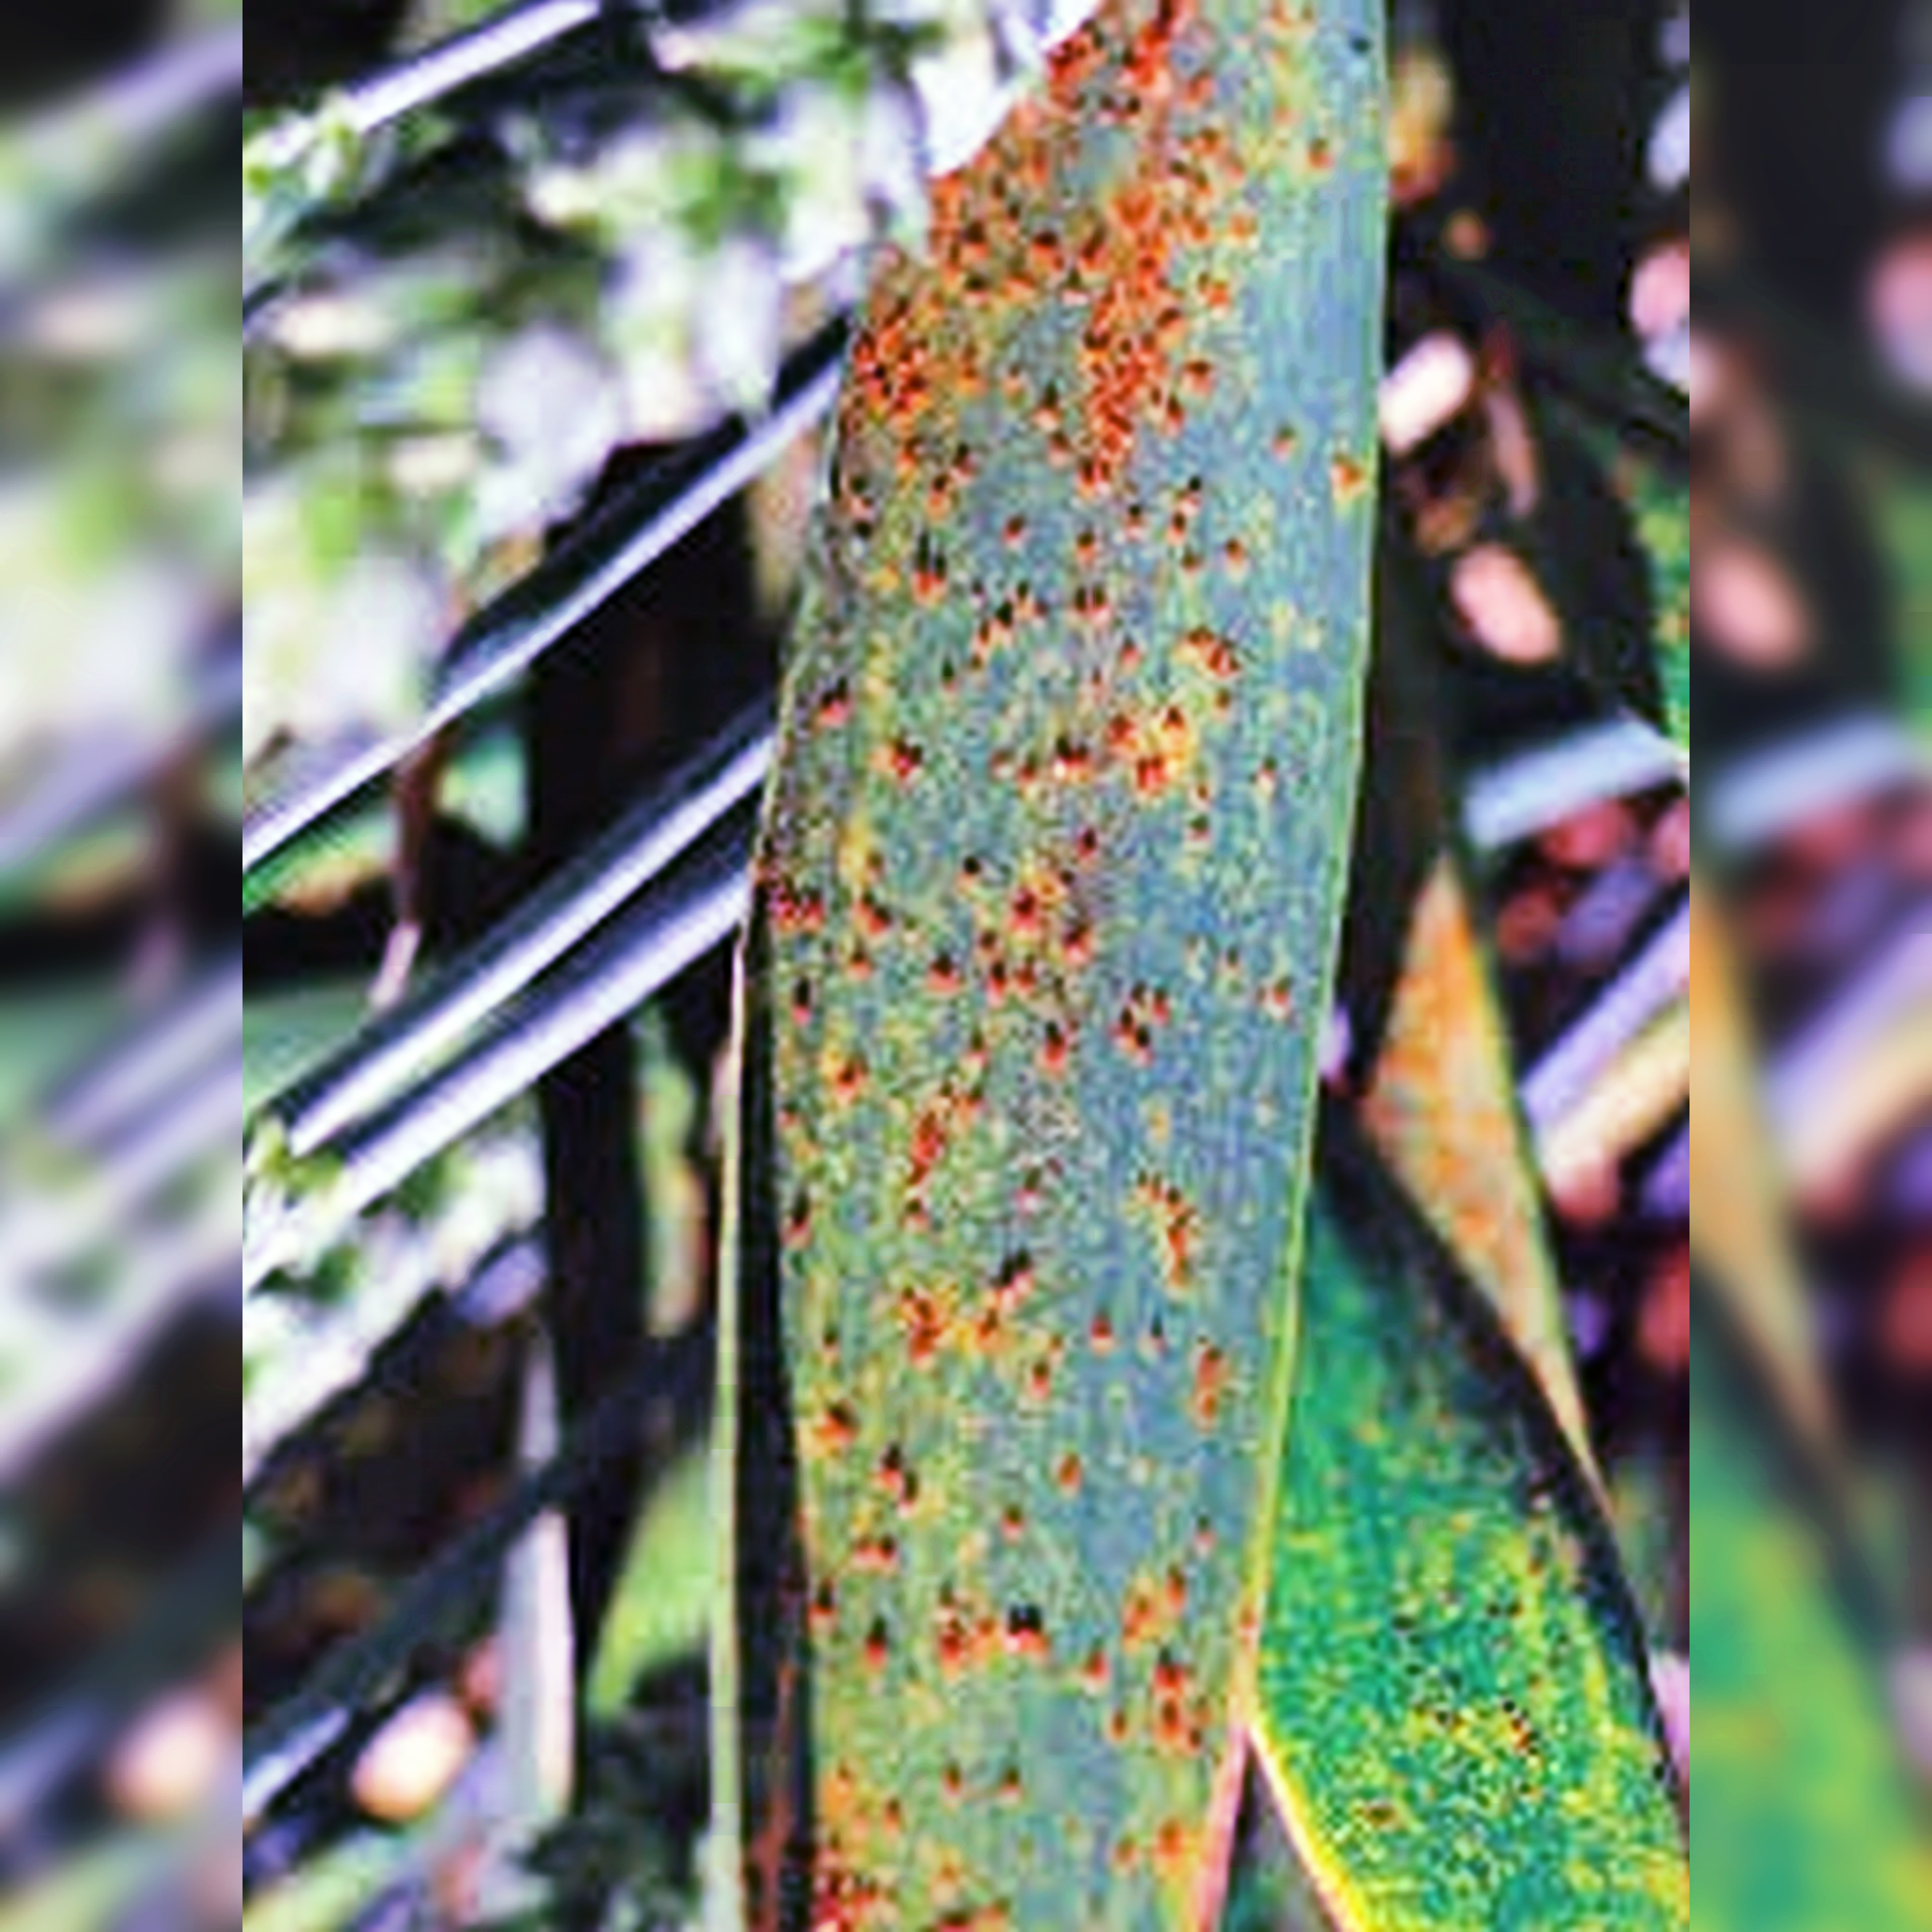Leaf Rust: (777, 83, 1456, 1672)
